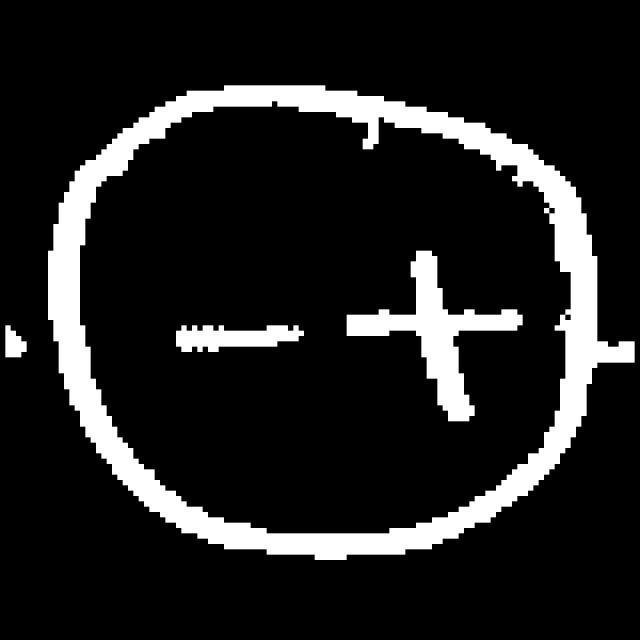voltage_source: (39, 73, 601, 570)
